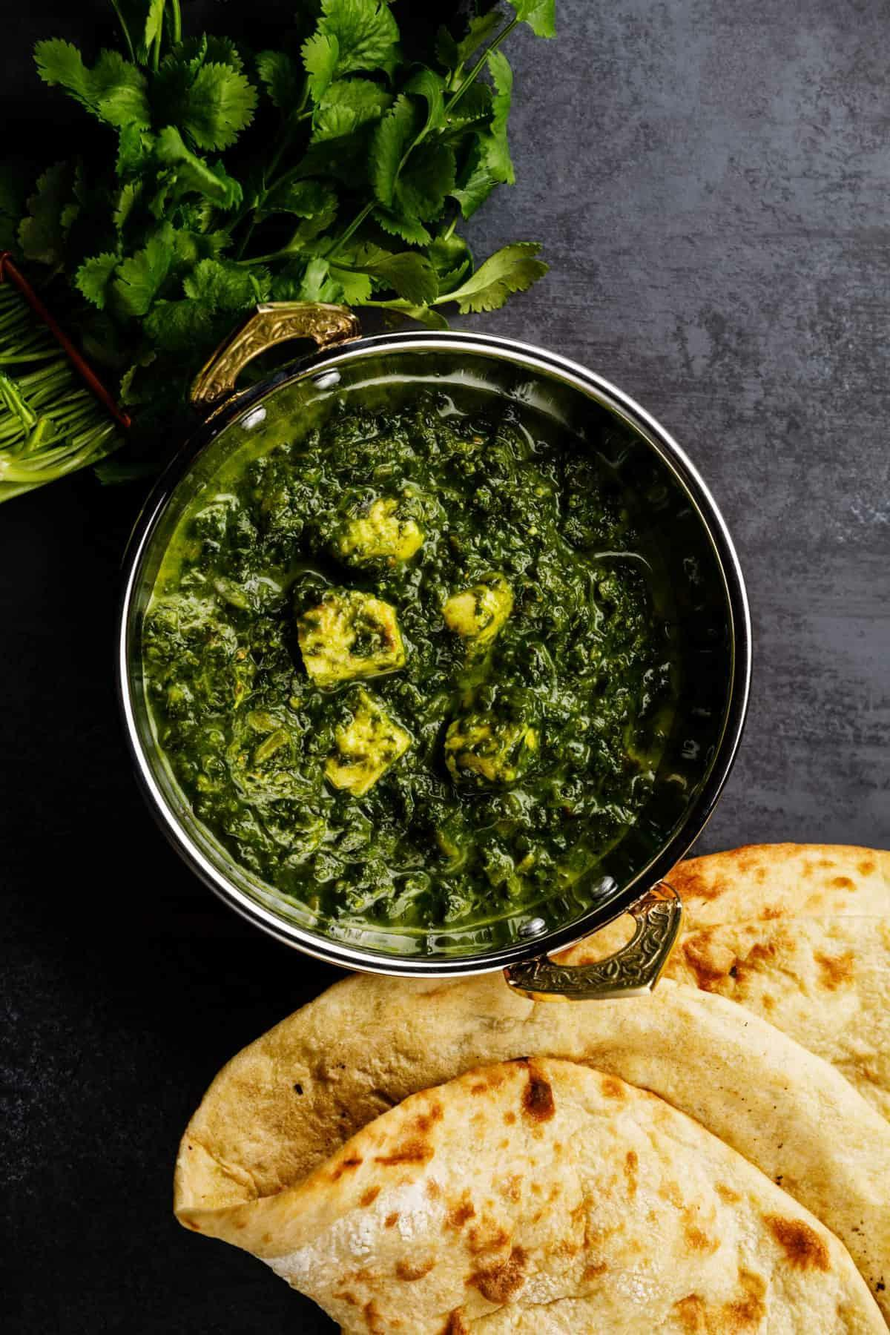PalakPaneer: (159, 405, 690, 925)
